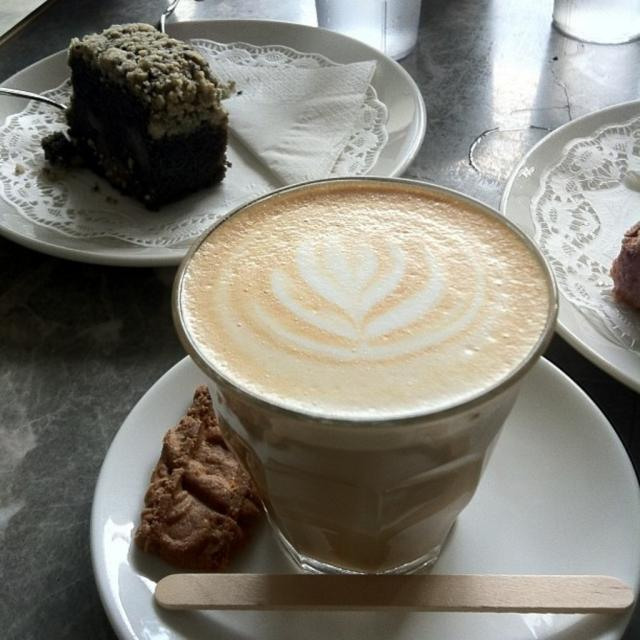Coffee: (181, 179, 552, 577)
